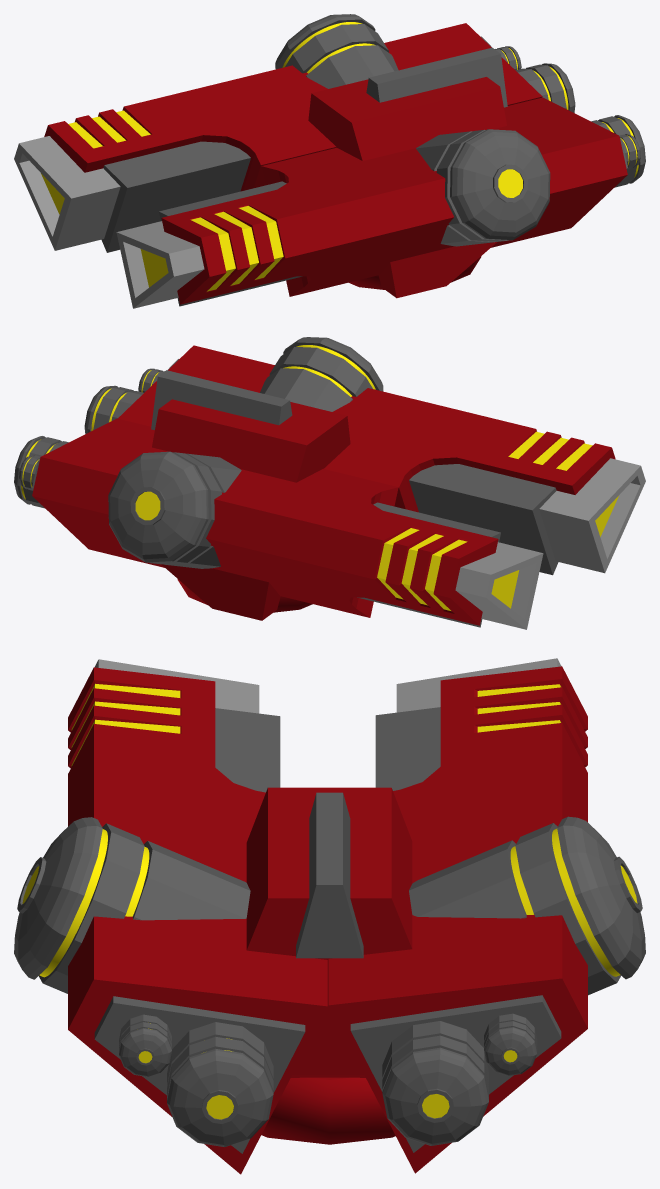
The model's file is Turret_Top_Lvl3.fbx.
3 renders of one model, top to bottom at view 1: azimuth 30°, elevation 25°; view 2: azimuth 150°, elevation 25°; view 3: azimuth 270°, elevation 25°, orthographic. The views are drawn at different scales.
Visible parts, largest first — view 1: Gun Barrel Ext.002, Gun Barrel Ext.001, GunBase.001, Gun Side Piece L.006, Gun Barrel Mid.001, Gun Barrel Inner.001, Gun Side Piece L.007, Gun Barrel Inner.002, Gun Sight.001, Cube.010, Gun Side Piece L.008, Gun Barrel Mid.002 (+7 smaller); view 2: Gun Barrel Ext.001, Gun Barrel Ext.002, GunBase.001, Gun Side Piece L.007, Gun Barrel Mid.002, Gun Barrel Inner.002, Gun Side Piece L.006, Gun Barrel Inner.001, Gun Sight.001, Cube.008, Gun Side Piece L.010, Gun Barrel Mid.001 (+7 smaller); view 3: Gun Barrel Ext.001, Gun Barrel Ext.002, GunBase.001, Gun Side Piece L.007, Gun Side Piece L.006, Gun Side Piece L.008, Gun Side Piece L.010, Gun Sight.001, Gun Bottom.001, Gun Back panel.002, Gun Back panel.001, Gun Barrel Mid.001 (+9 smaller).
Boxes of the visible parts, x1,y1,x2,y2 form: Gun Barrel Ext.002: [161, 97, 627, 304]; Gun Barrel Ext.001: [44, 23, 542, 191]; GunBase.001: [308, 77, 506, 298]; Gun Side Piece L.006: [416, 129, 550, 246]; Gun Barrel Mid.001: [101, 141, 250, 252]; Gun Barrel Inner.001: [14, 136, 120, 250]; Gun Side Piece L.007: [275, 14, 398, 88]; Gun Barrel Inner.002: [116, 221, 204, 308]; Gun Sight.001: [366, 47, 507, 107]; Cube.010: [191, 205, 283, 291]; Gun Side Piece L.008: [516, 63, 575, 112]; Gun Barrel Mid.002: [159, 181, 302, 306]; Gun Barrel Ext.001: [32, 418, 498, 625]; Gun Barrel Ext.002: [118, 345, 615, 512]; GunBase.001: [152, 399, 350, 620]; Gun Side Piece L.007: [108, 451, 241, 568]; Gun Barrel Mid.002: [409, 464, 558, 575]; Gun Barrel Inner.002: [539, 458, 645, 573]; Gun Side Piece L.006: [260, 337, 383, 411]; Gun Barrel Inner.001: [455, 542, 543, 629]; Gun Sight.001: [151, 370, 292, 429]; Cube.008: [377, 528, 467, 610]; Gun Side Piece L.010: [84, 385, 143, 433]; Gun Barrel Mid.001: [357, 502, 500, 627]; Gun Barrel Ext.001: [328, 666, 587, 1173]; Gun Barrel Ext.002: [68, 667, 327, 1174]; GunBase.001: [246, 787, 412, 1077]; Gun Side Piece L.007: [409, 816, 645, 995]; Gun Side Piece L.006: [14, 817, 250, 993]; Gun Side Piece L.008: [382, 1021, 488, 1145]; Gun Side Piece L.010: [167, 1022, 273, 1146]; Gun Sight.001: [296, 792, 363, 958]; Gun Bottom.001: [261, 1077, 395, 1144]; Gun Back panel.002: [94, 996, 305, 1153]; Gun Back panel.001: [350, 995, 561, 1152]; Gun Barrel Mid.001: [375, 707, 440, 790].
Bounding box in the file's own units: 458 × 158 × 323.
